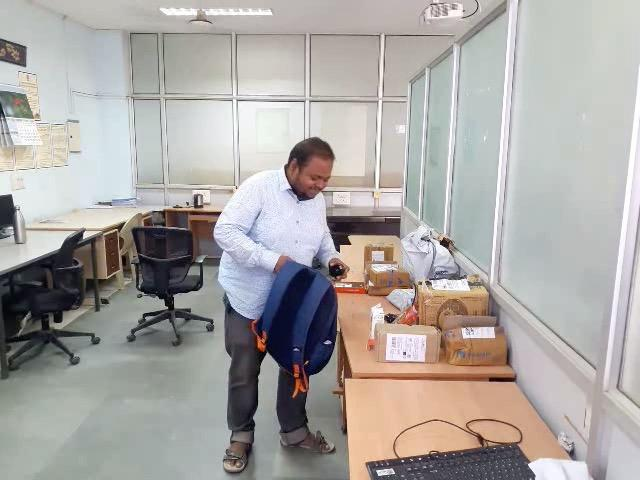shoplifting: (218, 214, 376, 451)
